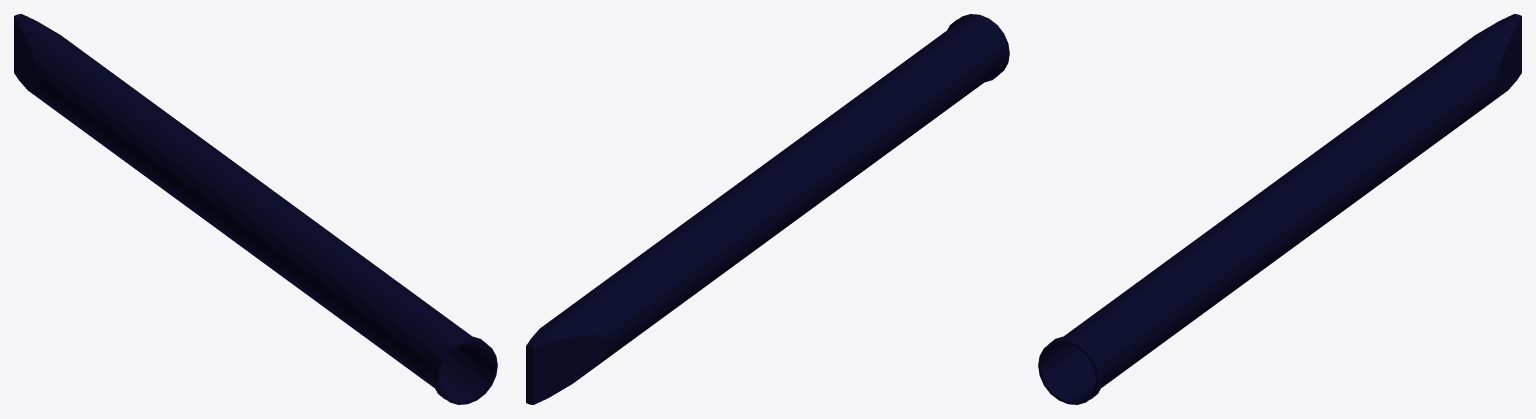
File: SDShaft.OBJ
3 views of the same model, side by side, from view 1: azimuth 30°, elevation 25°; view 2: azimuth 150°, elevation 25°; view 3: azimuth 330°, elevation 25° (orthographic).
Visible parts, largest first — view 1: /ambf/env/SDShaft_SDShaft_/ambf/env/SDShaft_SDShaft; view 2: /ambf/env/SDShaft_SDShaft_/ambf/env/SDShaft_SDShaft; view 3: /ambf/env/SDShaft_SDShaft_/ambf/env/SDShaft_SDShaft.
Boxes of the visible parts, x1,y1,x2,y2 form: /ambf/env/SDShaft_SDShaft_/ambf/env/SDShaft_SDShaft: (14,14,497,404); /ambf/env/SDShaft_SDShaft_/ambf/env/SDShaft_SDShaft: (526,14,1009,404); /ambf/env/SDShaft_SDShaft_/ambf/env/SDShaft_SDShaft: (1038,14,1521,404).
Size of the model in its own units: 0.0419 by 0.0419 by 0.5342.
